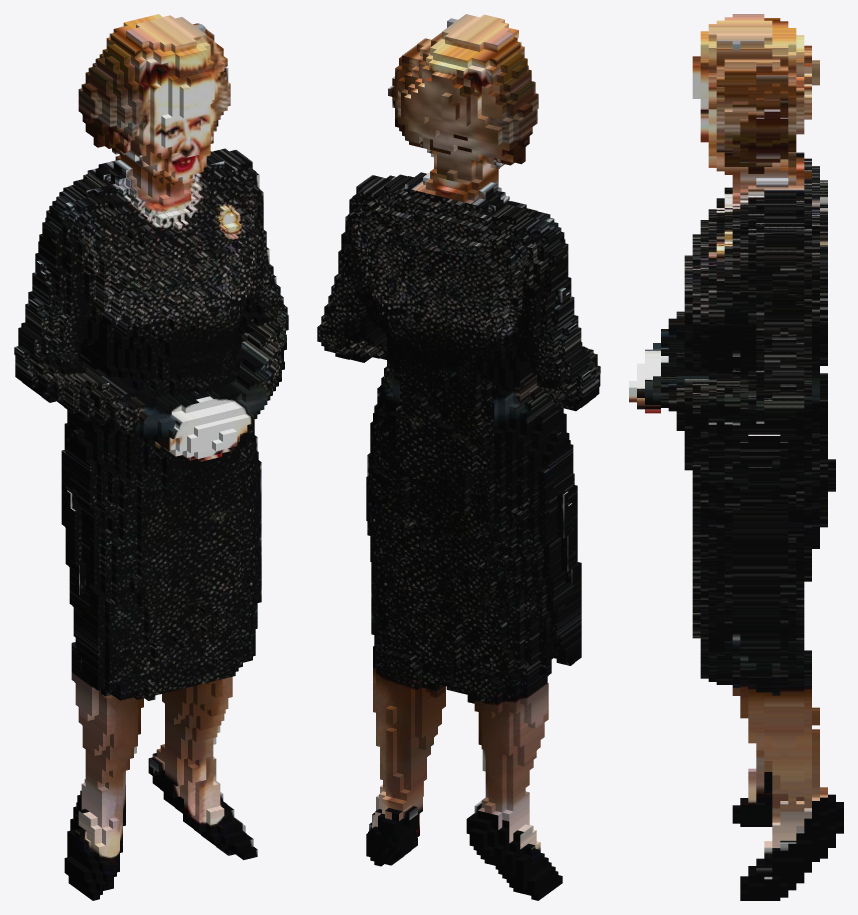
File: margaretthatcher.glb
The picture shows the model from 3 angles, left to right: view 1: azimuth 30°, elevation 25°; view 2: azimuth 150°, elevation 25°; view 3: azimuth 270°, elevation 25°; orthographic projection. The views are drawn at different scales.
Visible parts, largest first — view 1: margarete; view 2: margarete; view 3: margarete.
Boxes of the visible parts, x1,y1,x2,y2 form: margarete: [14, 14, 288, 900]; margarete: [317, 14, 600, 900]; margarete: [629, 14, 843, 900].
Size of the model in its own units: 0.5638 by 1.75 by 0.4114.
1 material, 1 textured.
